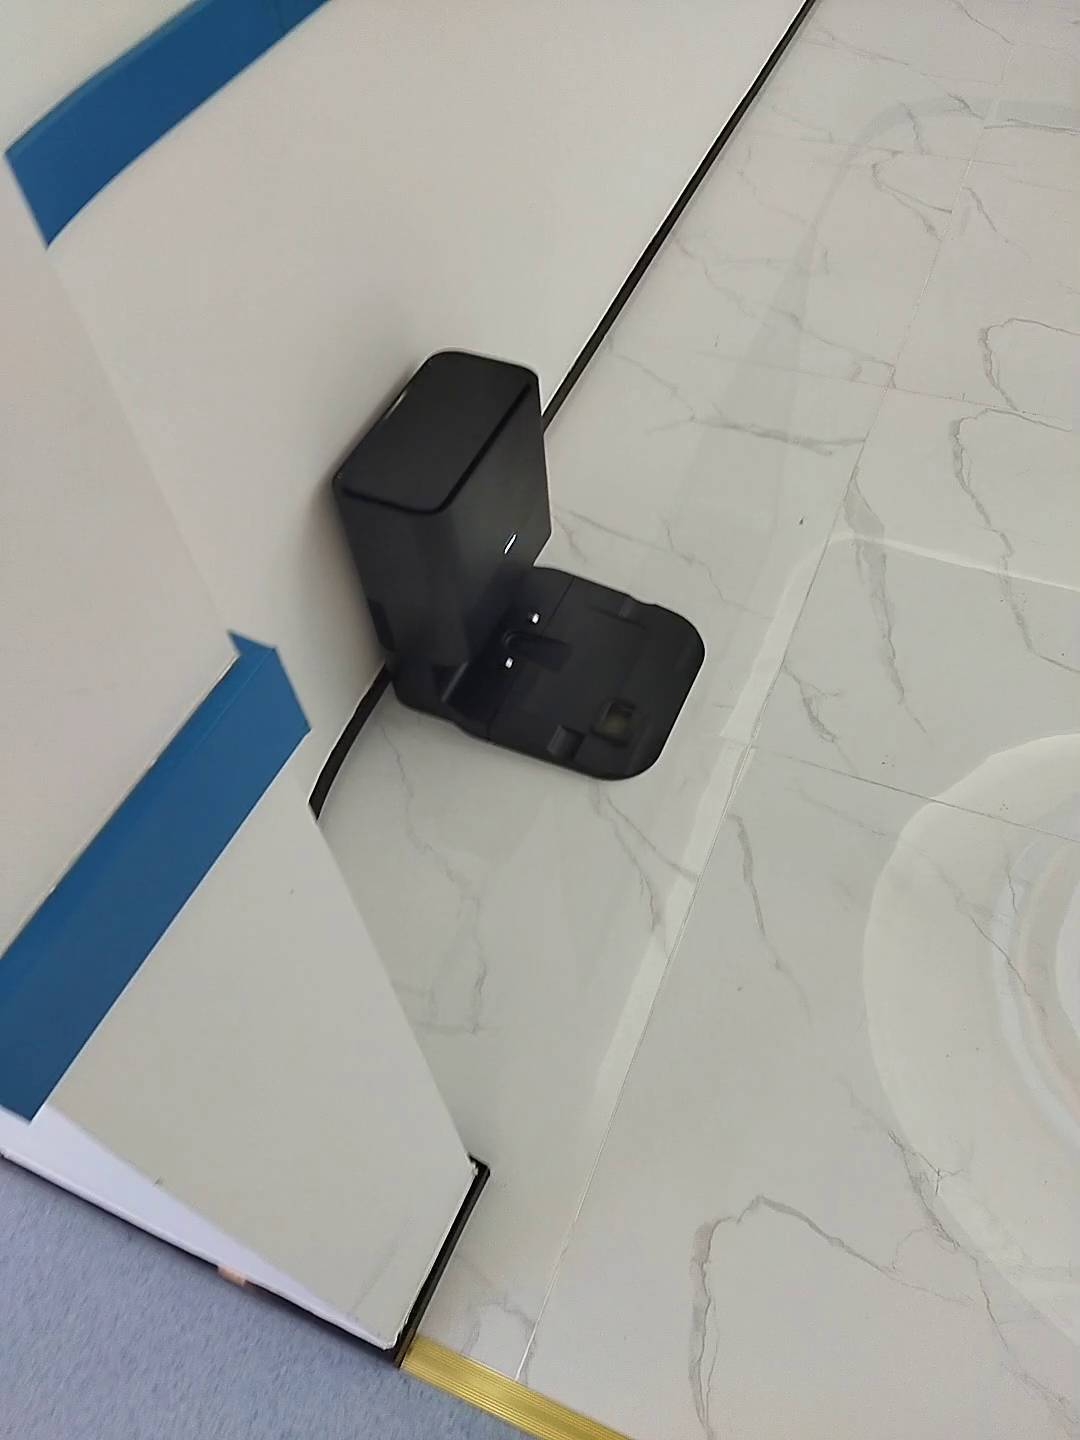dust collecting barrel: (331, 350, 706, 782)
